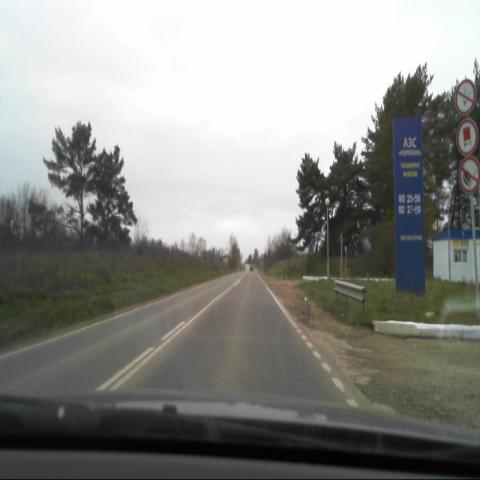3_32: (456, 119, 480, 158)
